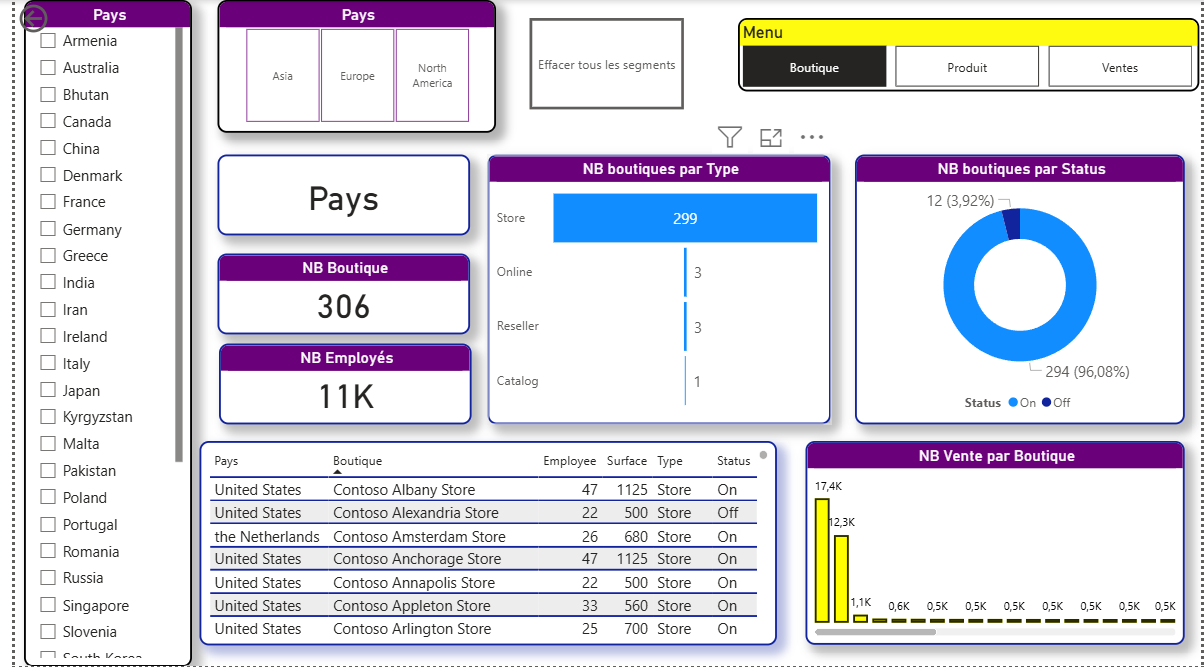

What the dashboard file says about the page in this screenshot:
{"tool":"powerbi","page":{"name":"Boutique","canvas":[1280,720],"ordinal":0},"visuals":[{"type":"slicer","title":"Pays","fields":{"Values":["Geographie.Pays"]},"box":[9.4,0,181.4,720],"z":0},{"type":"slicer","title":"Pays","fields":{"Values":["Geographie.Continent"]},"box":[219.2,0,300.5,143.6],"z":1000},{"type":"card","fields":{"Values":["Geographie.paysSelected"]},"box":[218.8,166.9,272.6,87.1],"z":2000},{"type":"card","title":"NB Boutique","fields":{"Values":["Boutiques.NB boutiques"]},"box":[218.8,274.4,272.6,87.1],"z":3000},{"type":"card","title":"NB Employés","fields":{"Values":["Sum(Boutiques.Employee)"]},"box":[220.6,370.8,272.6,87.1],"z":4000},{"type":"funnel","fields":{"Category":["Boutiques.Type"],"Y":["Boutiques.NB boutiques"]},"box":[510.1,166.8,370.8,291.5],"z":5000},{"type":"donutChart","fields":{"Category":["Boutiques.Status"],"Y":["Boutiques.NB boutiques"]},"box":[906.8,166.8,356.2,291.5],"z":6000},{"type":"tableEx","fields":{"Values":["Geographie.Pays","Boutiques.Boutique","Boutiques.Employee","Boutiques.Surface","Boutiques.Type","Boutiques.Status"]},"box":[198.4,476.5,623,220.6],"z":7000},{"type":"actionButton","box":[0,0,100,40],"z":8000},{"type":"clusteredColumnChart","fields":{"Category":["Boutiques.Boutique"],"Y":["Sales.NB Vente"]},"box":[853.5,476.1,410.3,219.9],"z":9000},{"type":"actionButton","box":[555.4,19.4,166.8,98.8],"z":10000},{"type":"pageNavigator","title":"Menu","box":[781.2,18.8,497.9,79.2],"z":11000}]}

Visuals, with their boxes in screenshot pixels (x1, y1, x2, y2), scaled from the page's 1280x720 canvas onto the 1204x667 screenshot:
"Pays" slicer: bbox=(9, 0, 179, 666)
"Pays" slicer: bbox=(206, 0, 489, 133)
card - Geographie.paysSelected: bbox=(206, 155, 462, 235)
"NB Boutique" card: bbox=(206, 254, 462, 335)
"NB Employés" card: bbox=(208, 344, 464, 424)
funnel - Boutiques.Type x Boutiques.NB boutiques: bbox=(480, 155, 829, 425)
donutChart - Boutiques.Status x Boutiques.NB boutiques: bbox=(853, 155, 1188, 425)
tableEx - Geographie.Pays x Boutiques.Boutique: bbox=(187, 441, 773, 646)
actionButton: bbox=(0, 0, 94, 37)
clusteredColumnChart - Boutiques.Boutique x Sales.NB Vente: bbox=(803, 441, 1189, 645)
actionButton: bbox=(522, 18, 679, 109)
"Menu" pageNavigator: bbox=(735, 17, 1203, 91)
